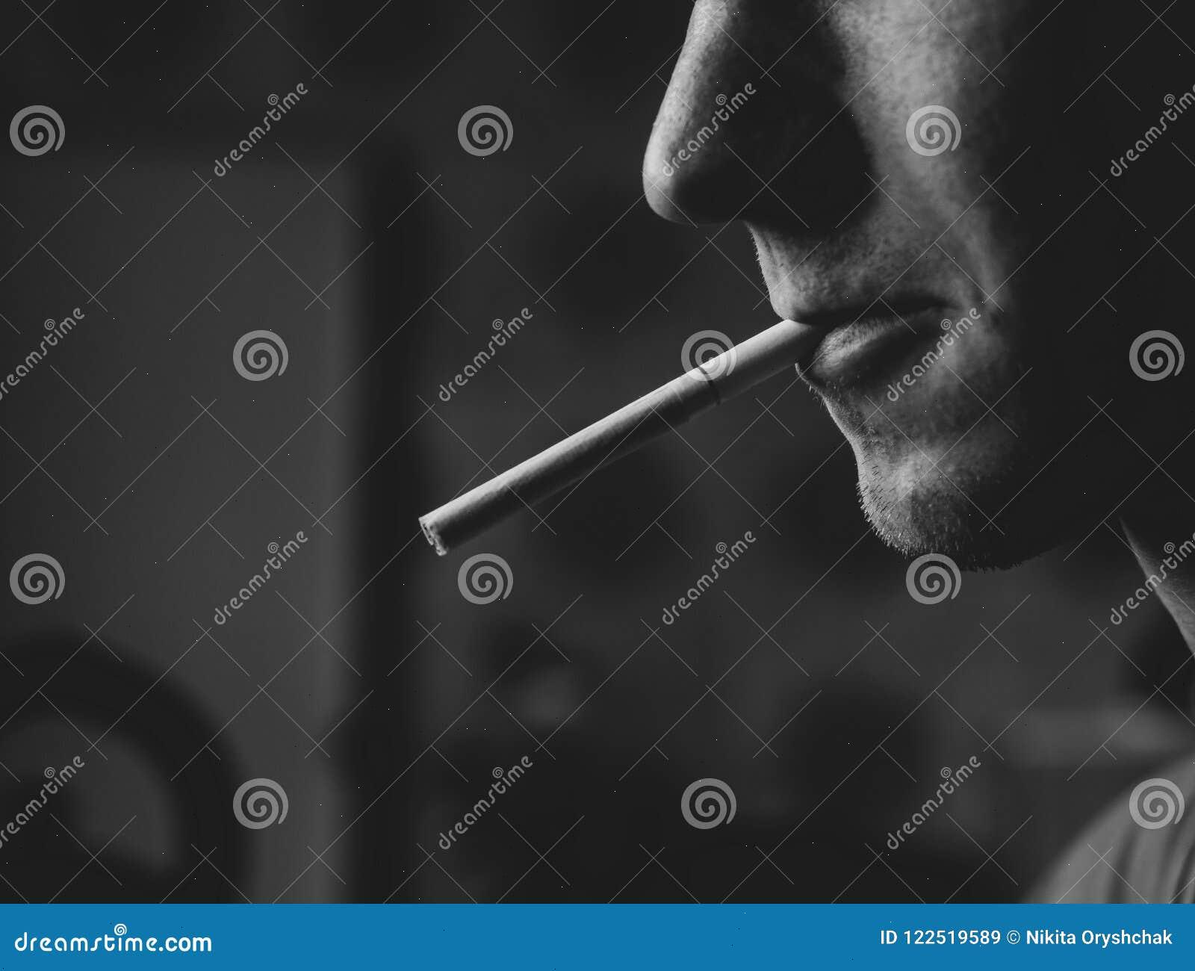cigarette: (419, 320, 823, 554)
